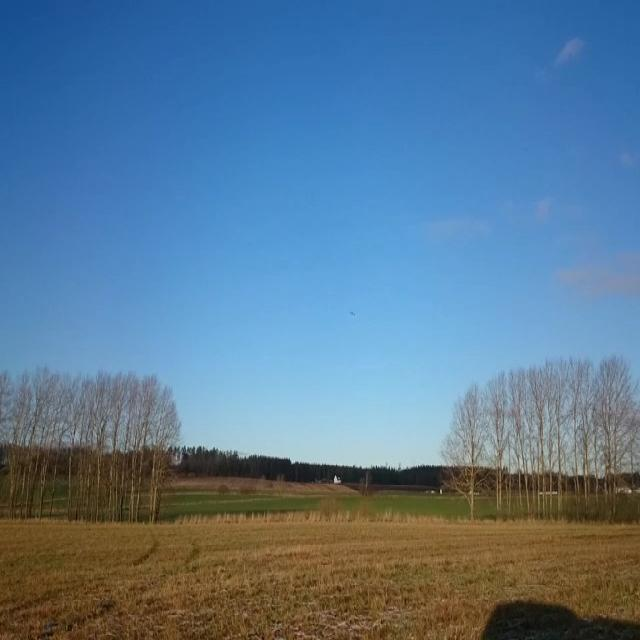drone: (350, 311, 356, 317)
